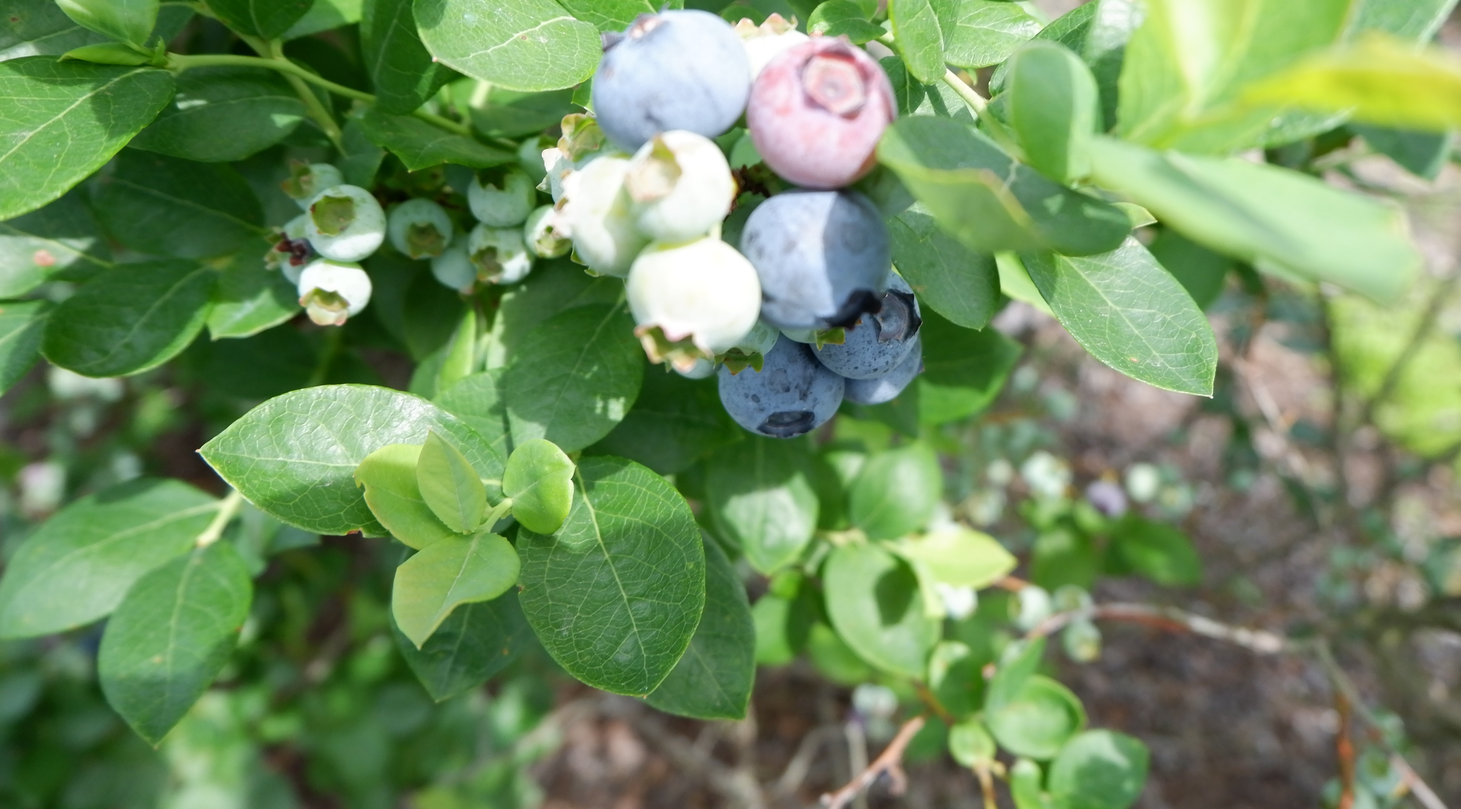Immature: (751, 42, 892, 187), (628, 238, 759, 374), (626, 132, 732, 241), (556, 155, 644, 273), (307, 188, 384, 260), (263, 212, 322, 287), (300, 262, 369, 324), (740, 18, 802, 84), (468, 223, 528, 284), (469, 169, 534, 224), (390, 198, 451, 256), (282, 158, 344, 213), (557, 113, 621, 159), (723, 321, 776, 372), (536, 147, 577, 202), (524, 206, 568, 257), (433, 240, 475, 291), (776, 324, 845, 353), (683, 357, 724, 378)
Mature: (743, 190, 888, 329), (594, 15, 748, 145), (717, 333, 846, 437), (818, 272, 919, 378), (846, 337, 922, 406)
